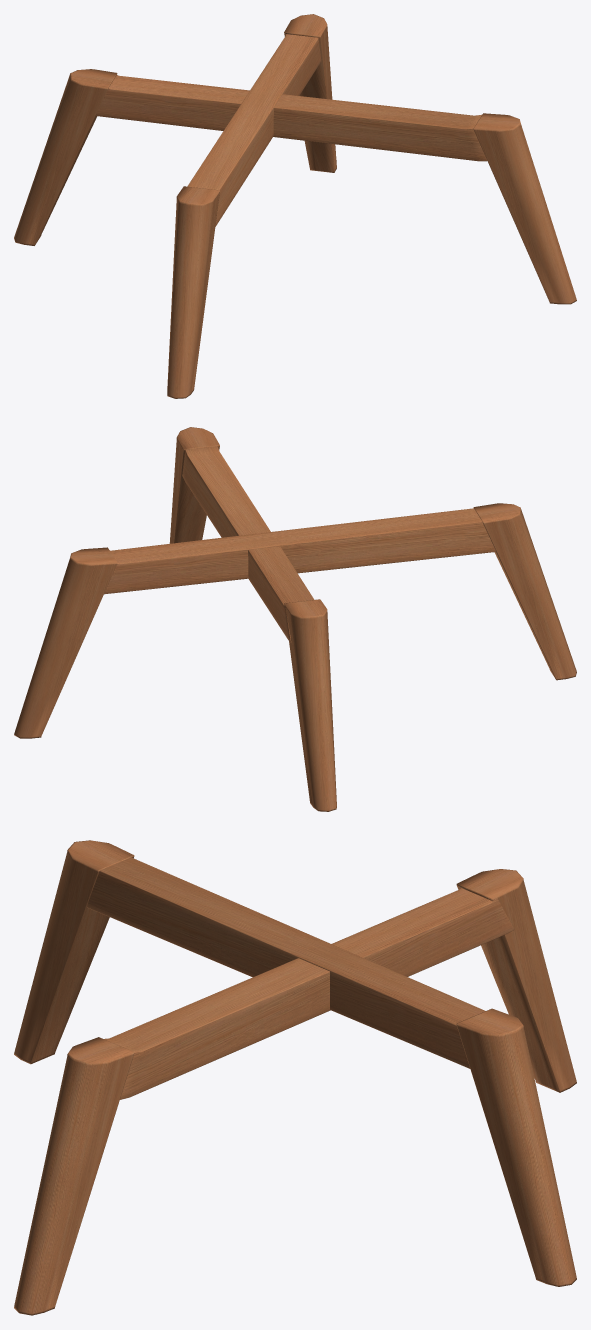
File: Nora_Chair_L31_Leg.glb
3 renders of one model, top to bottom at view 1: azimuth 30°, elevation 25°; view 2: azimuth 150°, elevation 25°; view 3: azimuth 270°, elevation 25°, orthographic. The views are drawn at different scales.
Visible parts, largest first — view 1: Box073.002; view 2: Box073.002; view 3: Box073.002.
Boxes of the visible parts, box(x1,y1,x2,y2) form: Box073.002: box(14, 14, 576, 398); Box073.002: box(14, 427, 576, 811); Box073.002: box(14, 840, 576, 1315).
Size of the model in its own units: 63.24 by 25.36 by 56.04.
Materials: 1 (1 with a texture image).
